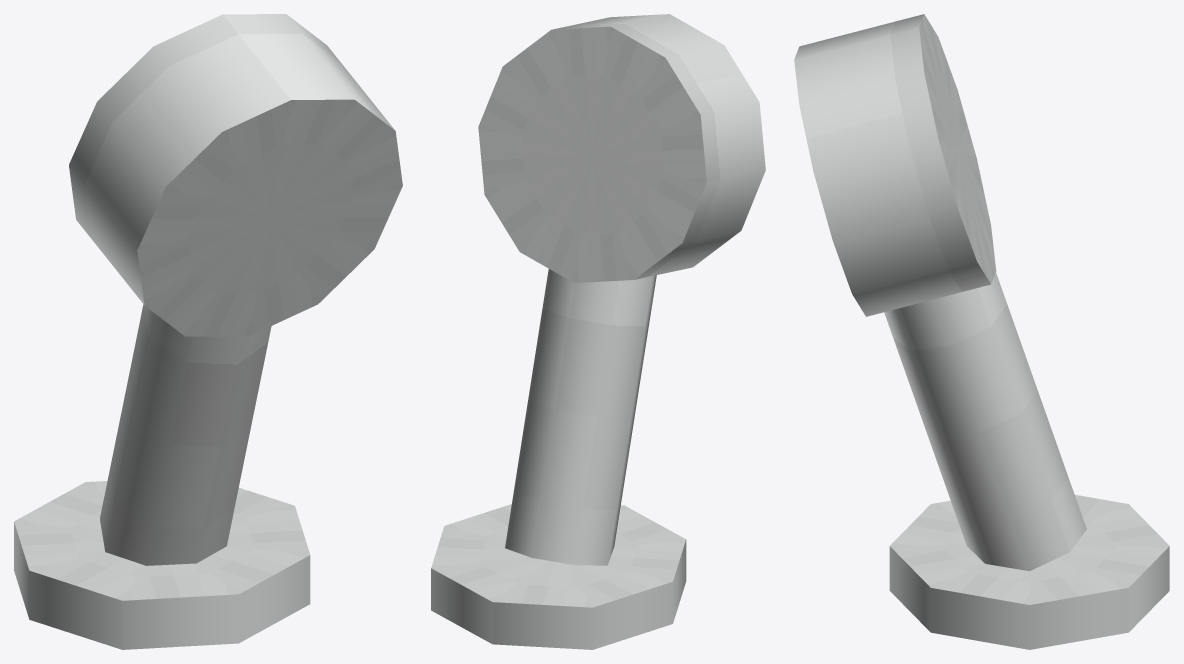
The model's file is trusssignalarm_stub_43.obj.
The picture shows the model from 3 angles, left to right: view 1: azimuth 30°, elevation 25°; view 2: azimuth 150°, elevation 25°; view 3: azimuth 270°, elevation 25°; orthographic projection. The views are drawn at different scales.
Visible parts, largest first — view 1: trusssignalarm_stub_43; view 2: trusssignalarm_stub_43; view 3: trusssignalarm_stub_43.
Part boxes in pixels (x1,y1,x2,y2): trusssignalarm_stub_43: [14, 14, 402, 649]; trusssignalarm_stub_43: [431, 14, 765, 649]; trusssignalarm_stub_43: [794, 14, 1169, 649].
Size of the model in its own units: 0.35 by 0.7771 by 0.4694.
